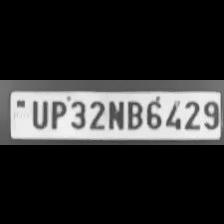2: (180, 97, 200, 130), (87, 97, 105, 129)
3: (66, 97, 86, 129)
4: (164, 97, 181, 129)
6: (142, 97, 162, 129)
9: (200, 97, 220, 129)
B: (124, 97, 142, 129)
N: (106, 97, 122, 130)
P: (47, 97, 66, 128)
U: (28, 97, 48, 127)
